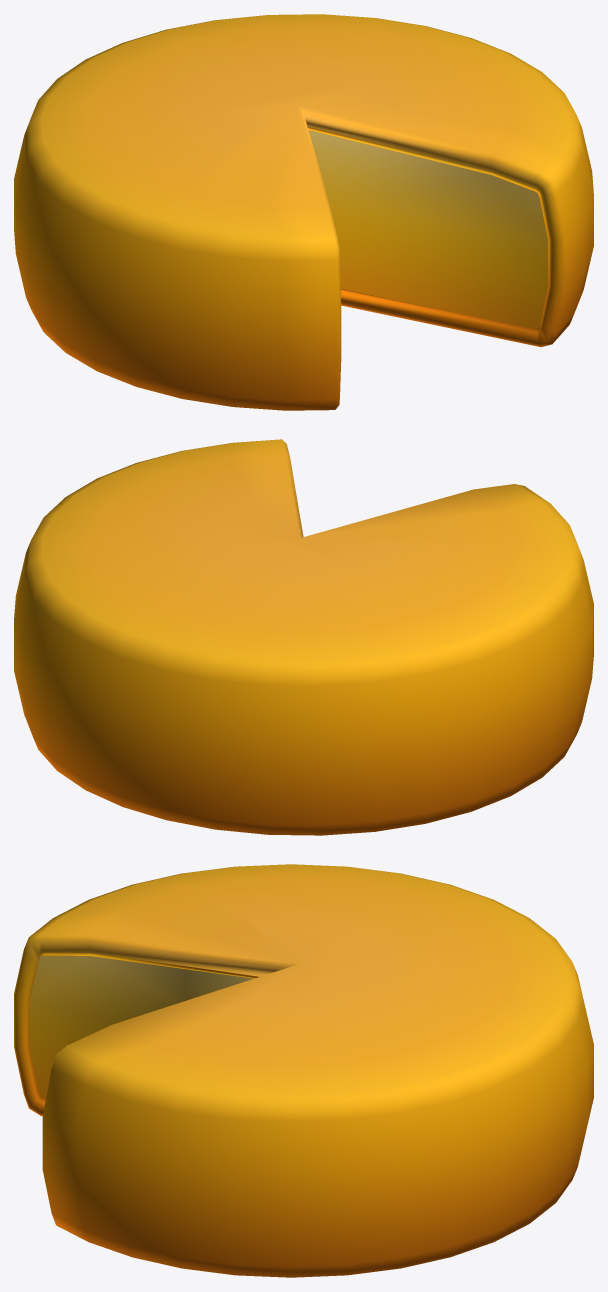
Rendered from cheese_002.fbx.
3 views of the same model, one above another, from view 1: azimuth 30°, elevation 25°; view 2: azimuth 150°, elevation 25°; view 3: azimuth 270°, elevation 25° (orthographic). The views are drawn at different scales.
Parts seen in each view (by area): view 1: cheese_002; view 2: cheese_002; view 3: cheese_002.
Boxes of the visible parts, x1=… form: cheese_002: x1=14, y1=14, x2=593, y2=410; cheese_002: x1=14, y1=439, x2=593, y2=835; cheese_002: x1=14, y1=864, x2=593, y2=1277.
Size of the model in its own units: 23.58 by 22.59 by 8.52.
